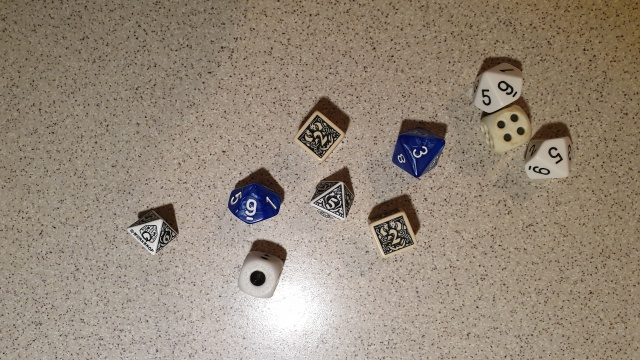d10-3: (390, 123, 451, 181)
d10-5: (521, 130, 578, 187)
d10-9: (473, 55, 527, 114), (222, 180, 286, 228)
d6-1: (232, 246, 289, 300)
d6-4: (481, 102, 531, 153)
d6p-2: (293, 107, 346, 160), (370, 208, 420, 260)
d8p-5: (306, 173, 357, 225)
d8p-8: (122, 207, 184, 258)
